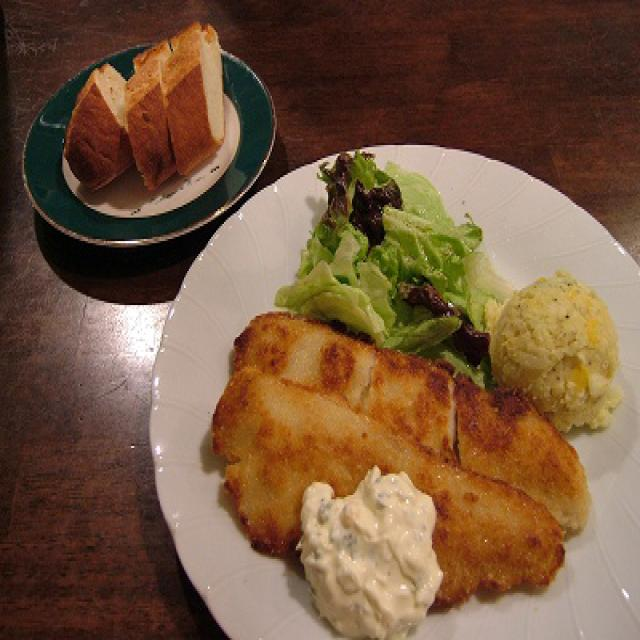炸货点心: (126, 275, 640, 638)
熟制海鲜: (126, 275, 640, 638)
